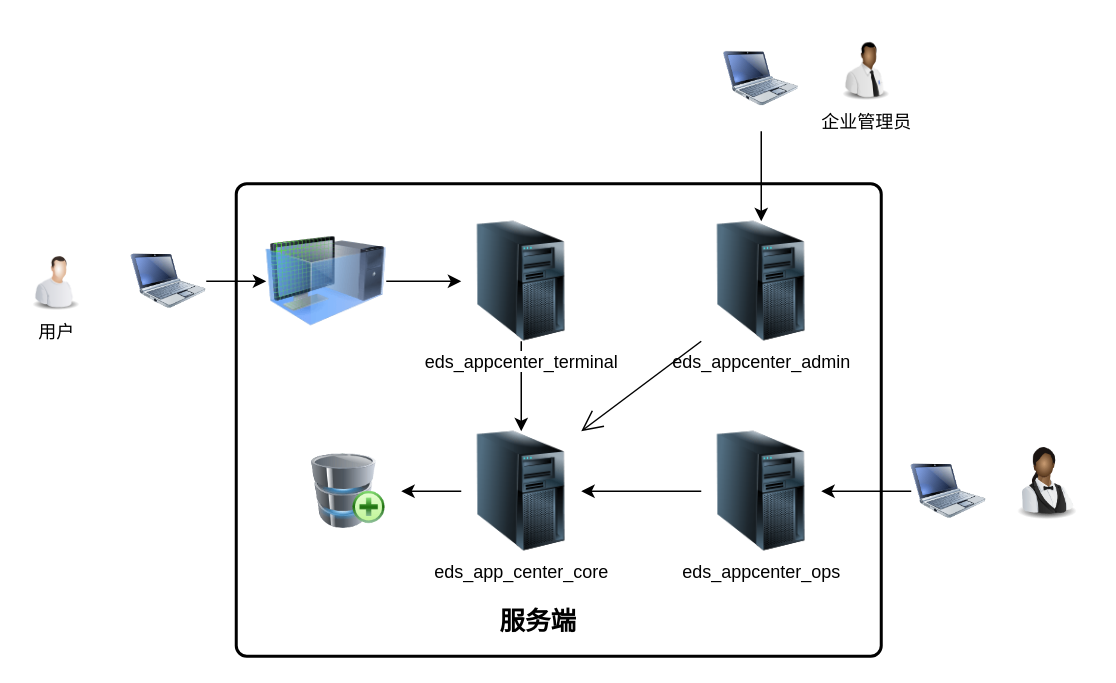
Some shapes in this 1116 by 683 pixel diagram are drawn without their labels. Here are the shapes that lost their labels. From the top down, the centre of each, then its label:
At point 326,280: "无影桌面".
At point 348,490: "DB".
At point 1045,479: "运营小二".
